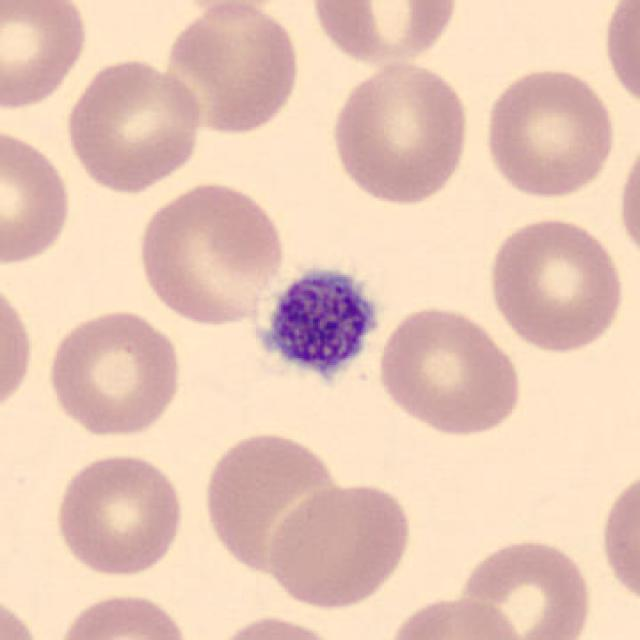Platelets: (250, 261, 386, 391)
RBC: (133, 178, 290, 330), (197, 425, 347, 580), (327, 56, 473, 208), (483, 212, 628, 356), (374, 301, 524, 439), (62, 53, 206, 196), (263, 478, 416, 612), (158, 2, 304, 138), (478, 63, 619, 203), (43, 305, 185, 441), (50, 450, 186, 578), (452, 534, 598, 640), (308, 0, 462, 71), (0, 123, 75, 268), (0, 0, 92, 113), (52, 589, 194, 640), (595, 461, 640, 613), (382, 594, 526, 640), (0, 271, 37, 421), (599, 0, 640, 116), (204, 612, 352, 640), (613, 130, 640, 268), (0, 589, 48, 640), (164, 0, 302, 16)
